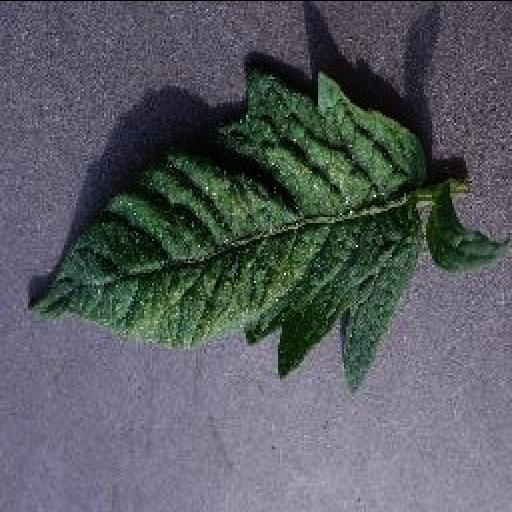disease_tomato: (27, 69, 429, 393)
